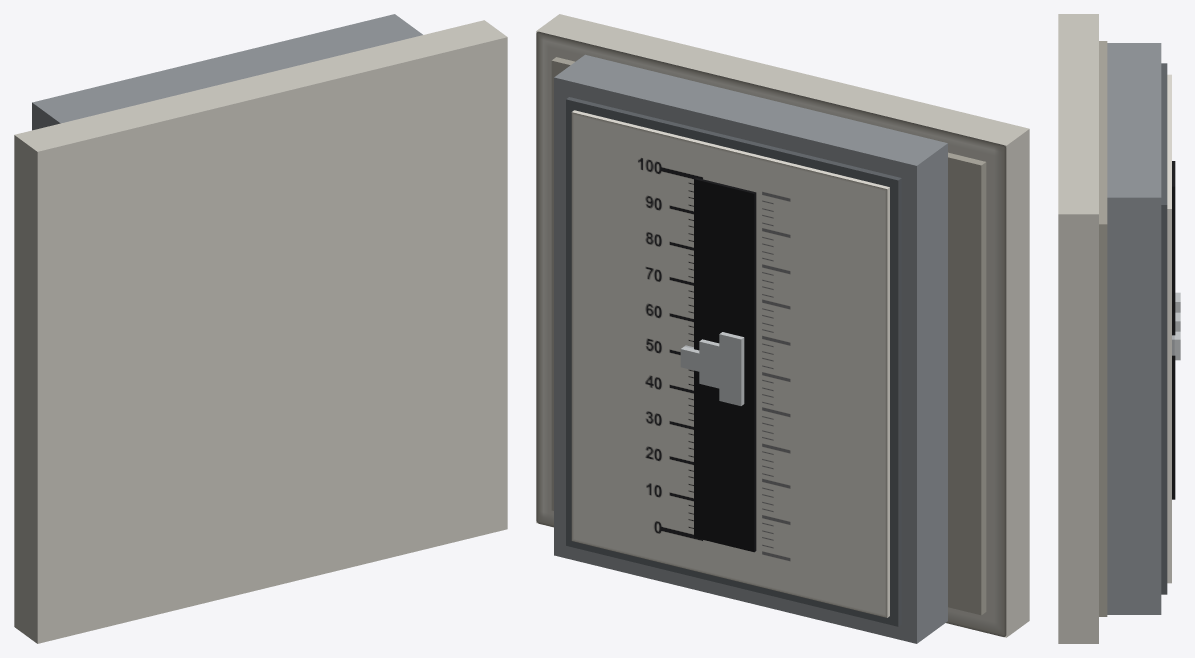
The model's file is gauge_50.obj.
3 renders of one model, left to right at view 1: azimuth 30°, elevation 25°; view 2: azimuth 150°, elevation 25°; view 3: azimuth 270°, elevation 25°, orthographic. The views are drawn at different scales.
Visible parts, largest first — view 1: Panel, Frame; view 2: Face, Panel, Frame, Needle; view 3: Frame, Panel, Face, Needle.
Part boxes in pixels (left/top/right/bottom): Panel: left=14, top=20, right=507, bottom=643; Frame: left=32, top=14, right=422, bottom=130; Face: left=571, top=110, right=889, bottom=617; Panel: left=536, top=14, right=1029, bottom=637; Frame: left=554, top=54, right=947, bottom=643; Needle: left=680, top=332, right=744, bottom=405; Frame: left=1107, top=43, right=1167, bottom=614; Panel: left=1058, top=14, right=1107, bottom=643; Face: left=1167, top=74, right=1175, bottom=583; Needle: left=1172, top=292, right=1180, bottom=360.
Size of the model in its own units: 0.875 by 0.875 by 0.2262.
Materials: 1 (1 with a texture image).
